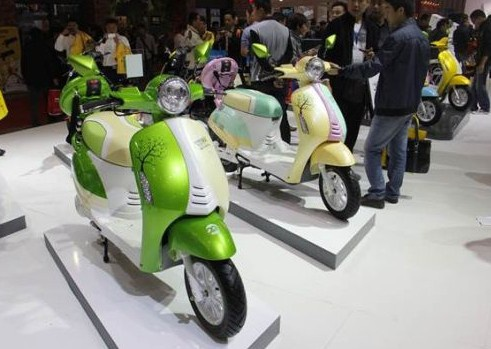non-vehicle: (61, 54, 247, 342), (198, 40, 362, 220)
